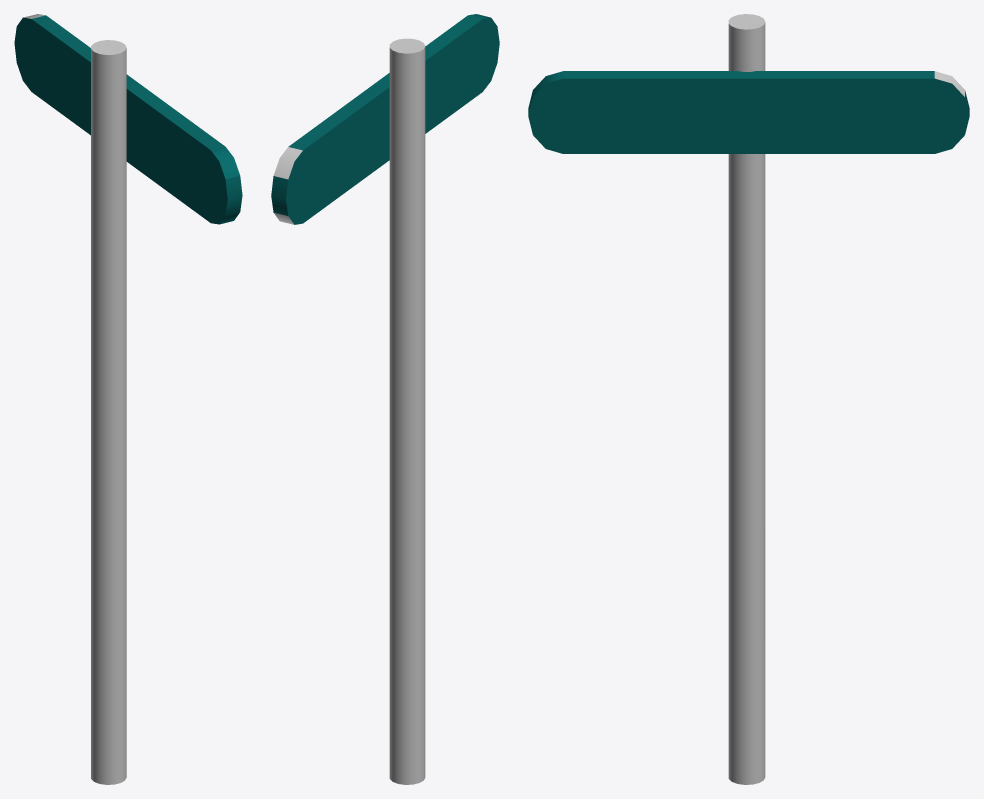
Rendered from RoadSign_02.fbx.
3 renders of one model, left to right at view 1: azimuth 30°, elevation 25°; view 2: azimuth 150°, elevation 25°; view 3: azimuth 270°, elevation 25°, orthographic. The views are drawn at different scales.
Parts seen in each view (by area): view 1: pCube158; view 2: pCube158; view 3: pCube158.
Boxes of the visible parts, bbox=[...] form: pCube158: bbox=[14, 14, 242, 784]; pCube158: bbox=[271, 14, 499, 784]; pCube158: bbox=[528, 14, 969, 784].
Bounding box in the file's own units: 0.1369 × 2.19 × 1.16.
